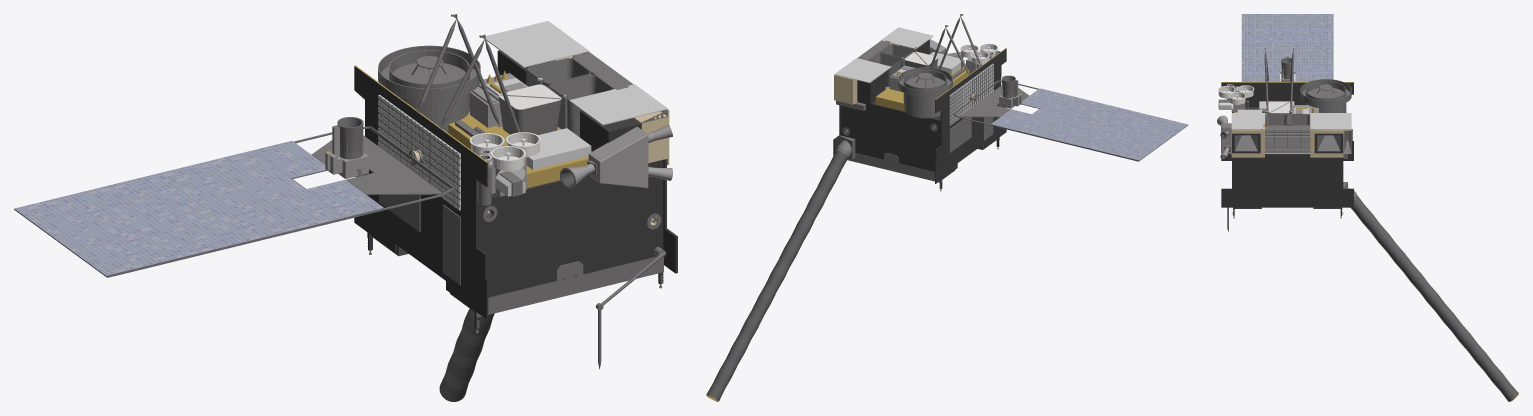
Rendered from goes.glb.
3 renders of one model, left to right at view 1: azimuth 30°, elevation 25°; view 2: azimuth 150°, elevation 25°; view 3: azimuth 270°, elevation 25°, orthographic. The views are drawn at different scales.
Visible parts, largest first — view 1: Layer_0; view 2: Layer_0; view 3: Layer_0.
Boxes of the visible parts, x1,y1,x2,y2 form: Layer_0: [14, 14, 677, 401]; Layer_0: [706, 14, 1188, 401]; Layer_0: [1217, 14, 1518, 401].
Bounding box in the file's own units: 0.1344 × 0.122 × 0.1114.
